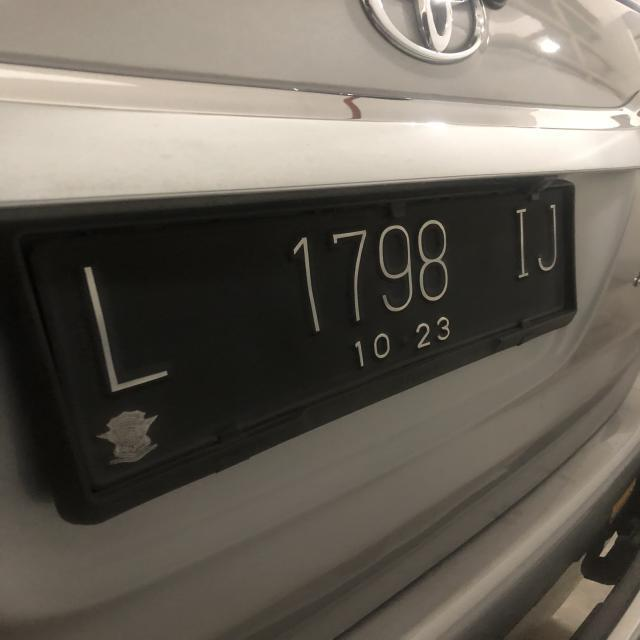1: (294, 233, 328, 334)
7: (329, 228, 371, 326)
8: (414, 220, 450, 304)
9: (374, 224, 414, 317)
I: (507, 202, 532, 282)
J: (536, 200, 564, 274)
L: (78, 262, 177, 400)
